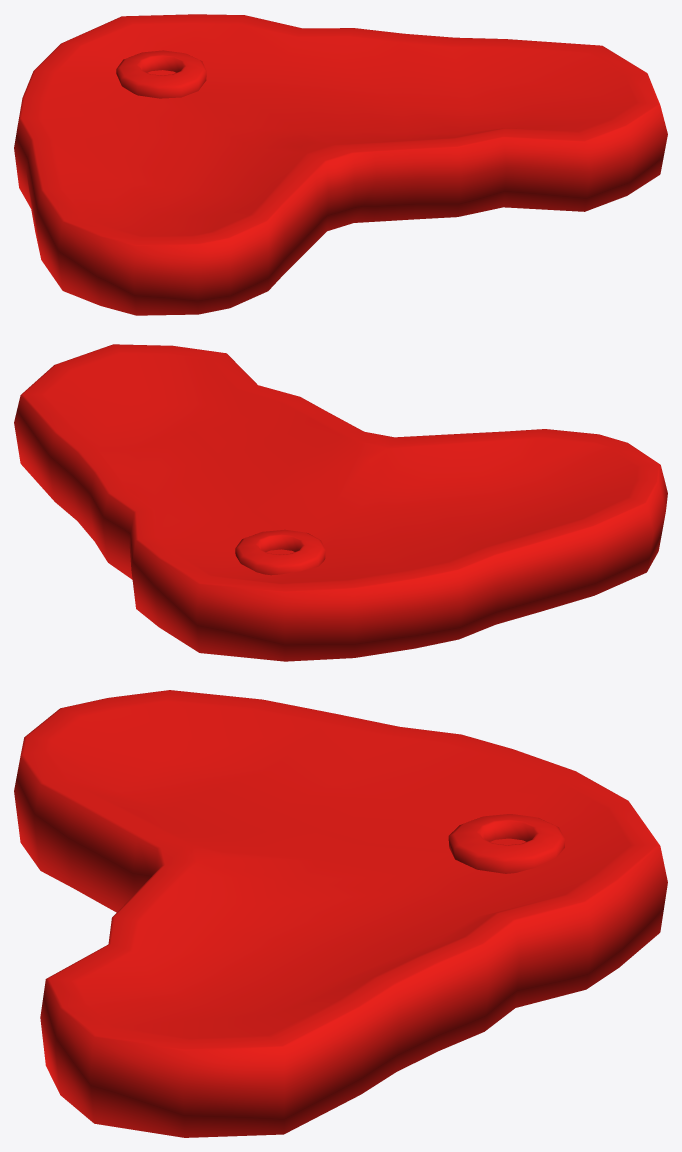
Rendered from Carne.fbx.
The picture shows the model from 3 angles, top to bottom: view 1: azimuth 30°, elevation 25°; view 2: azimuth 150°, elevation 25°; view 3: azimuth 270°, elevation 25°; orthographic projection. The views are drawn at different scales.
Visible parts, largest first — view 1: Cube.020; view 2: Cube.020; view 3: Cube.020.
Boxes of the visible parts, x1,y1,x2,y2 form: Cube.020: [14, 14, 667, 315]; Cube.020: [14, 344, 667, 661]; Cube.020: [14, 690, 667, 1137].
Bounding box in the file's own units: 752 × 83.74 × 563.
